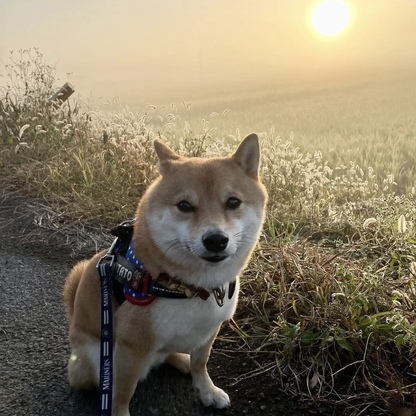shiba: (59, 131, 272, 416)
